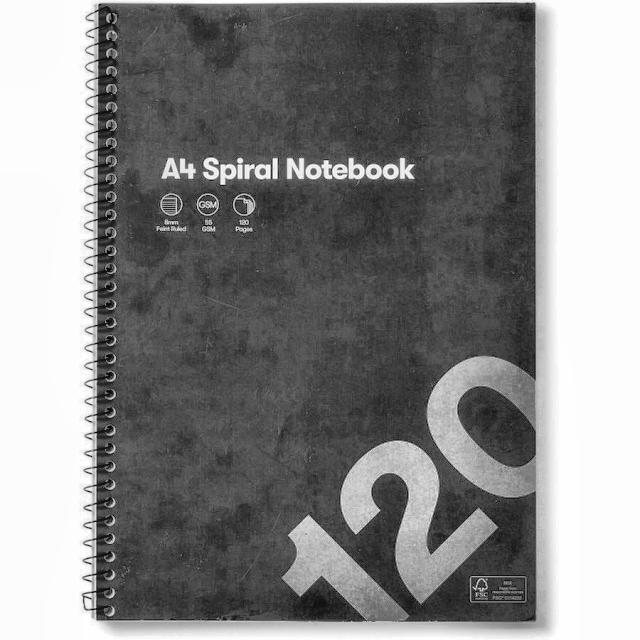Notebook: (61, 6, 562, 632)
